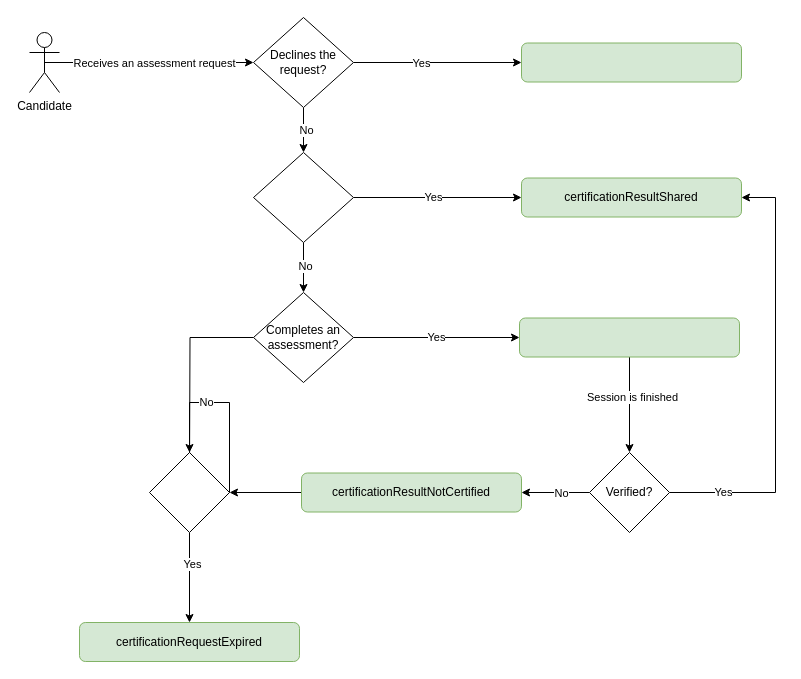
This 801x679 diagram has some shape labels left out. The shapes that lost their labels are listed below. From the top down, each one's centre as x and y in pixels, then its label:
the point at 631,62: certificationRequestRejected
the point at 303,197: Shares existing result?
the point at 629,337: certificationResultPending
the point at 189,492: Expired?
